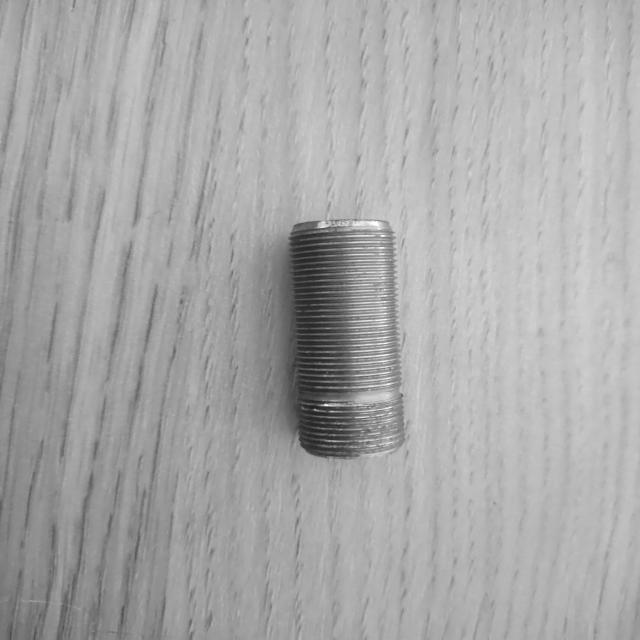Broken: (286, 217, 408, 463)
